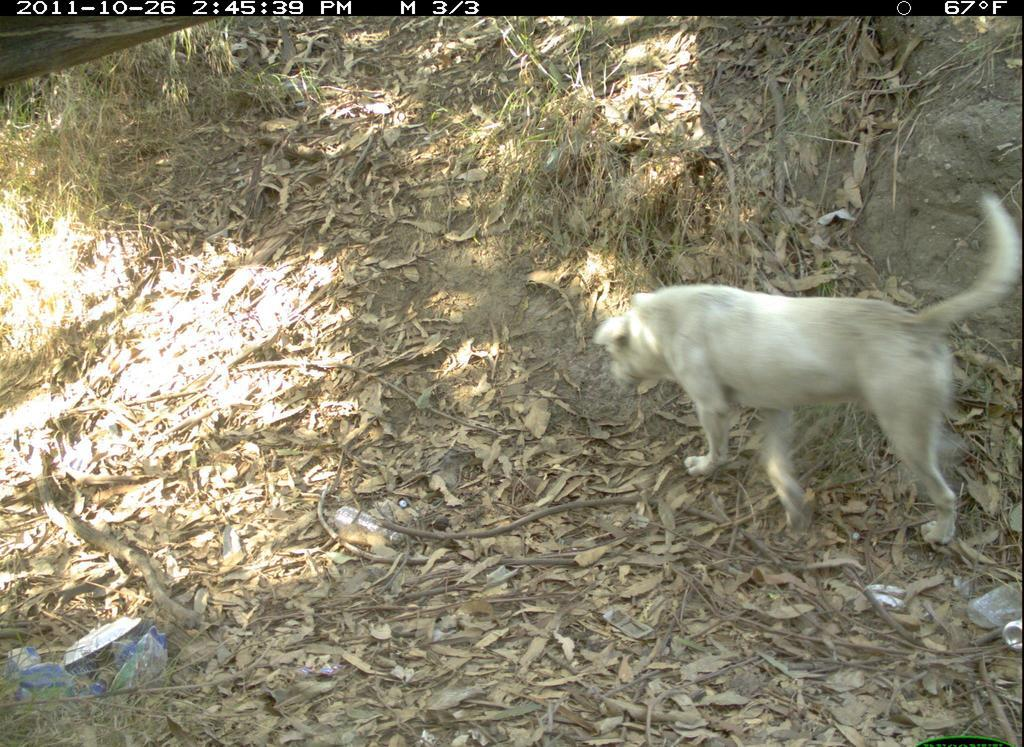dog: (585, 184, 1023, 550)
